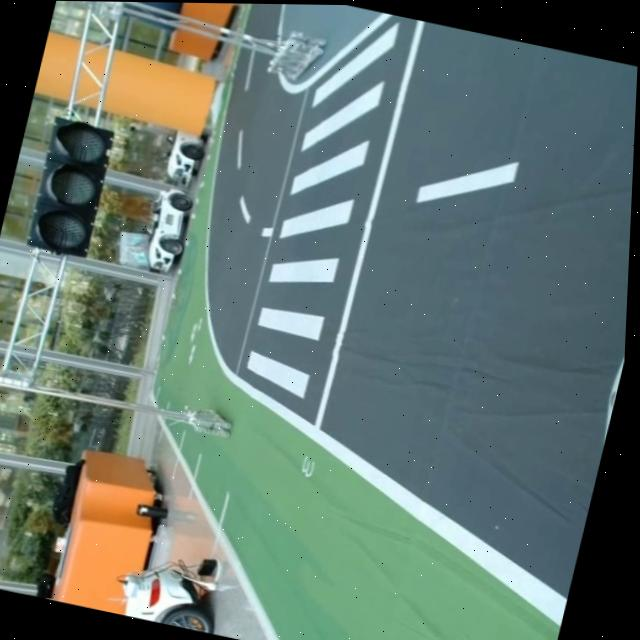traffic-light: (18, 111, 125, 268)
